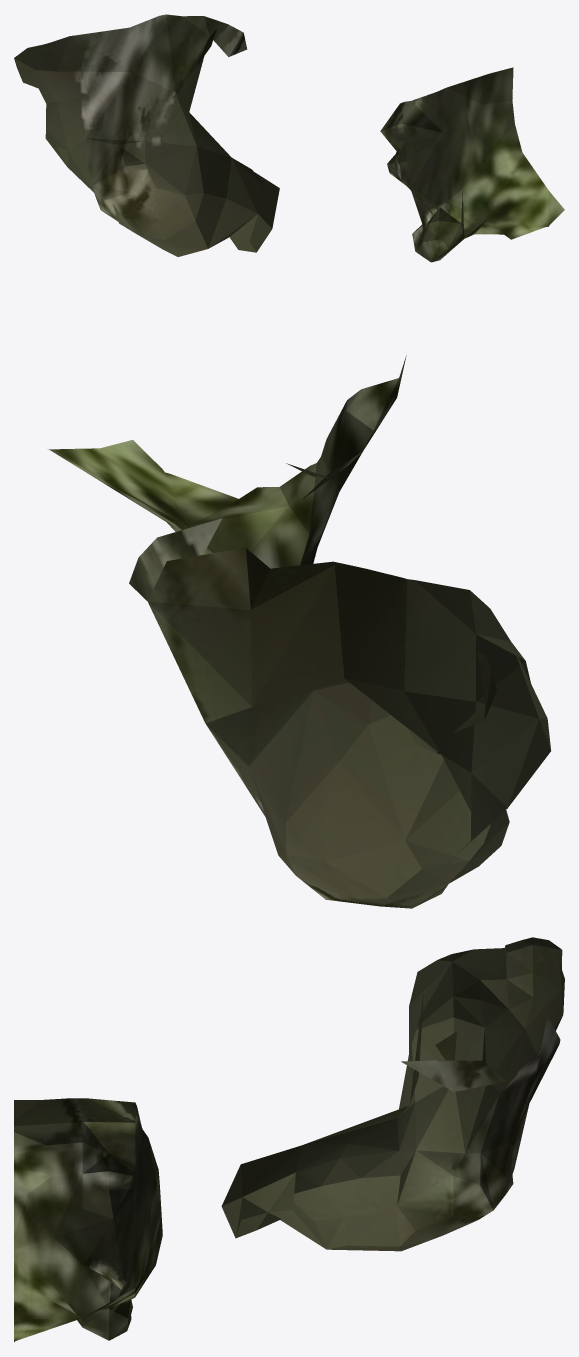
3 views of the same model, one above another, from view 1: azimuth 30°, elevation 25°; view 2: azimuth 150°, elevation 25°; view 3: azimuth 270°, elevation 25° (orthographic). The views are drawn at different scales.
Size of the model in its own units: 1.74 by 0.7778 by 1.61.
1 material, 1 textured.
